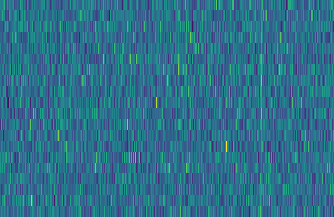signal: (257, 0, 268, 217)
